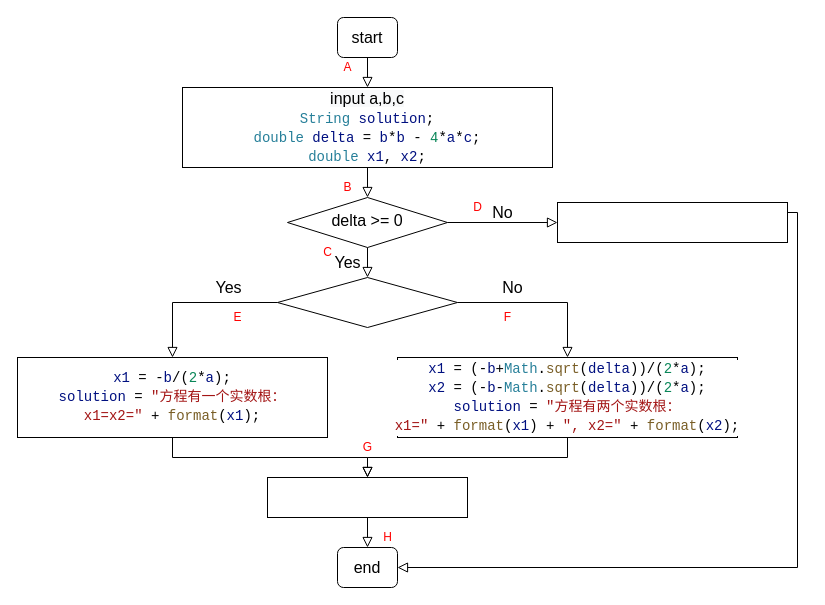
Some shapes in this 825 by 605 pixel diagram are drawn without their labels. The box of each missing label's shape, as (x1, y1, x2, y2) in pixels:
delta == 0: (276, 276, 458, 328)
output solution: (266, 476, 468, 518)
solution = "方程没有实数根" ;: (556, 202, 788, 242)
